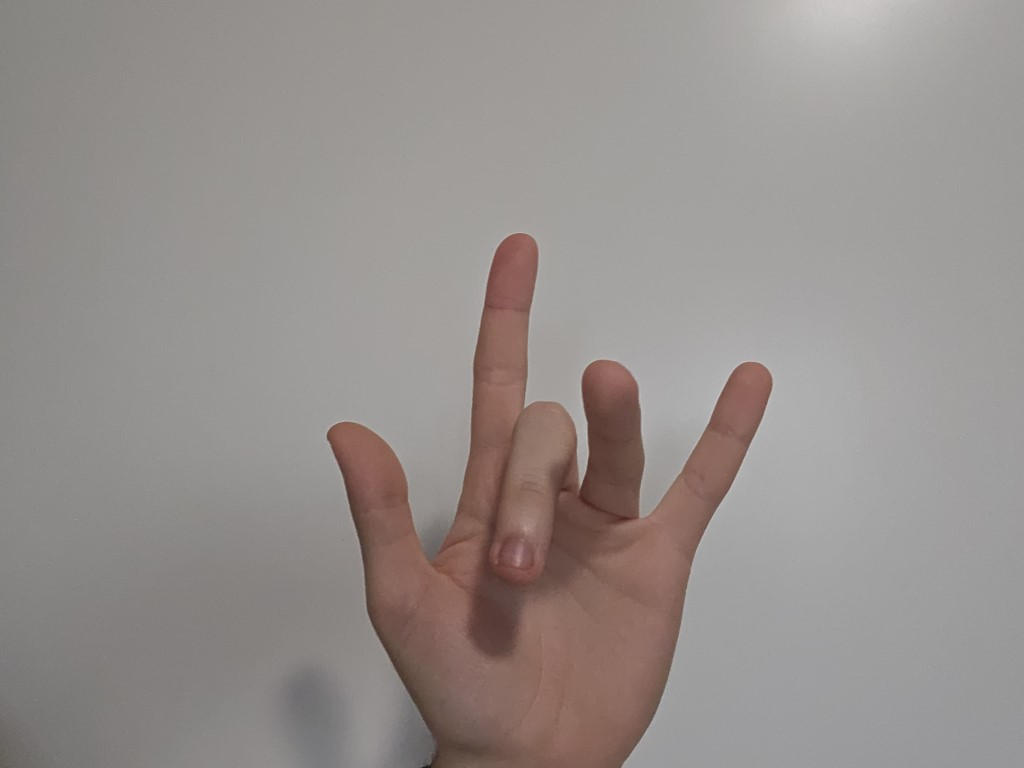reset: (292, 173, 816, 768)
